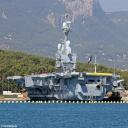Portanaves: (7, 3, 120, 103)
